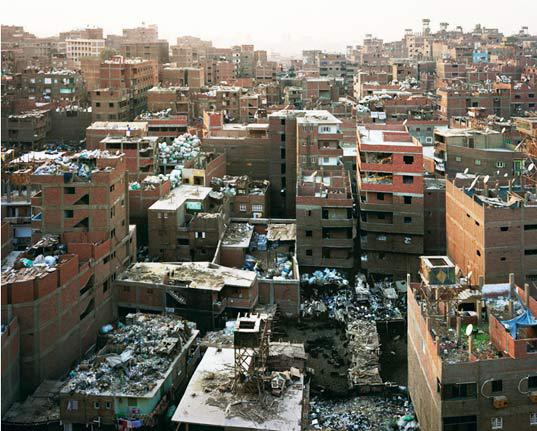Garbage: (84, 361, 151, 389), (315, 411, 400, 431), (265, 258, 299, 282), (170, 134, 198, 162), (309, 269, 354, 285), (14, 256, 59, 271)
